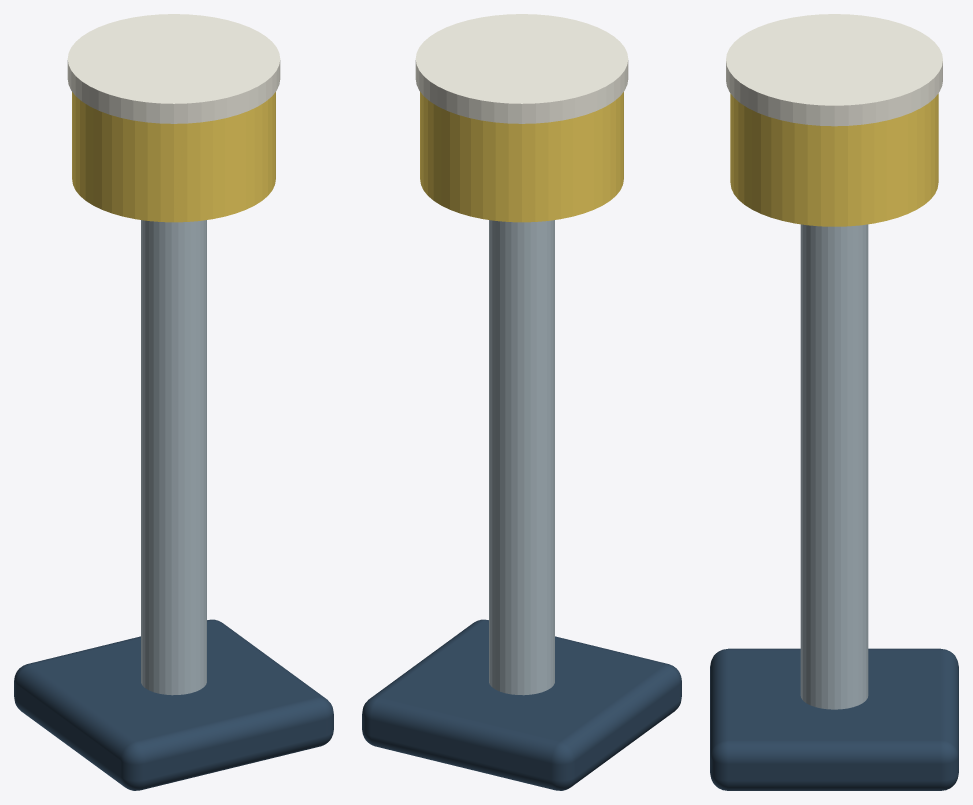
File: party-obstacle-course-party-obstacle-course-checkpoint-c9f892fe__28940.glb
3 renders of one model, left to right at view 1: azimuth 30°, elevation 25°; view 2: azimuth 150°, elevation 25°; view 3: azimuth 270°, elevation 25°, orthographic. The views are drawn at different scales.
Visible parts, largest first — view 1: party-obstacle-course-checkpoint-beacon; view 2: party-obstacle-course-checkpoint-beacon; view 3: party-obstacle-course-checkpoint-beacon.
Part boxes in pixels (bbox=[...]): party-obstacle-course-checkpoint-beacon: bbox=[14, 14, 333, 790]; party-obstacle-course-checkpoint-beacon: bbox=[362, 14, 681, 790]; party-obstacle-course-checkpoint-beacon: bbox=[710, 14, 958, 790].
Size of the model in its own units: 0.55 by 1.67 by 0.55.
